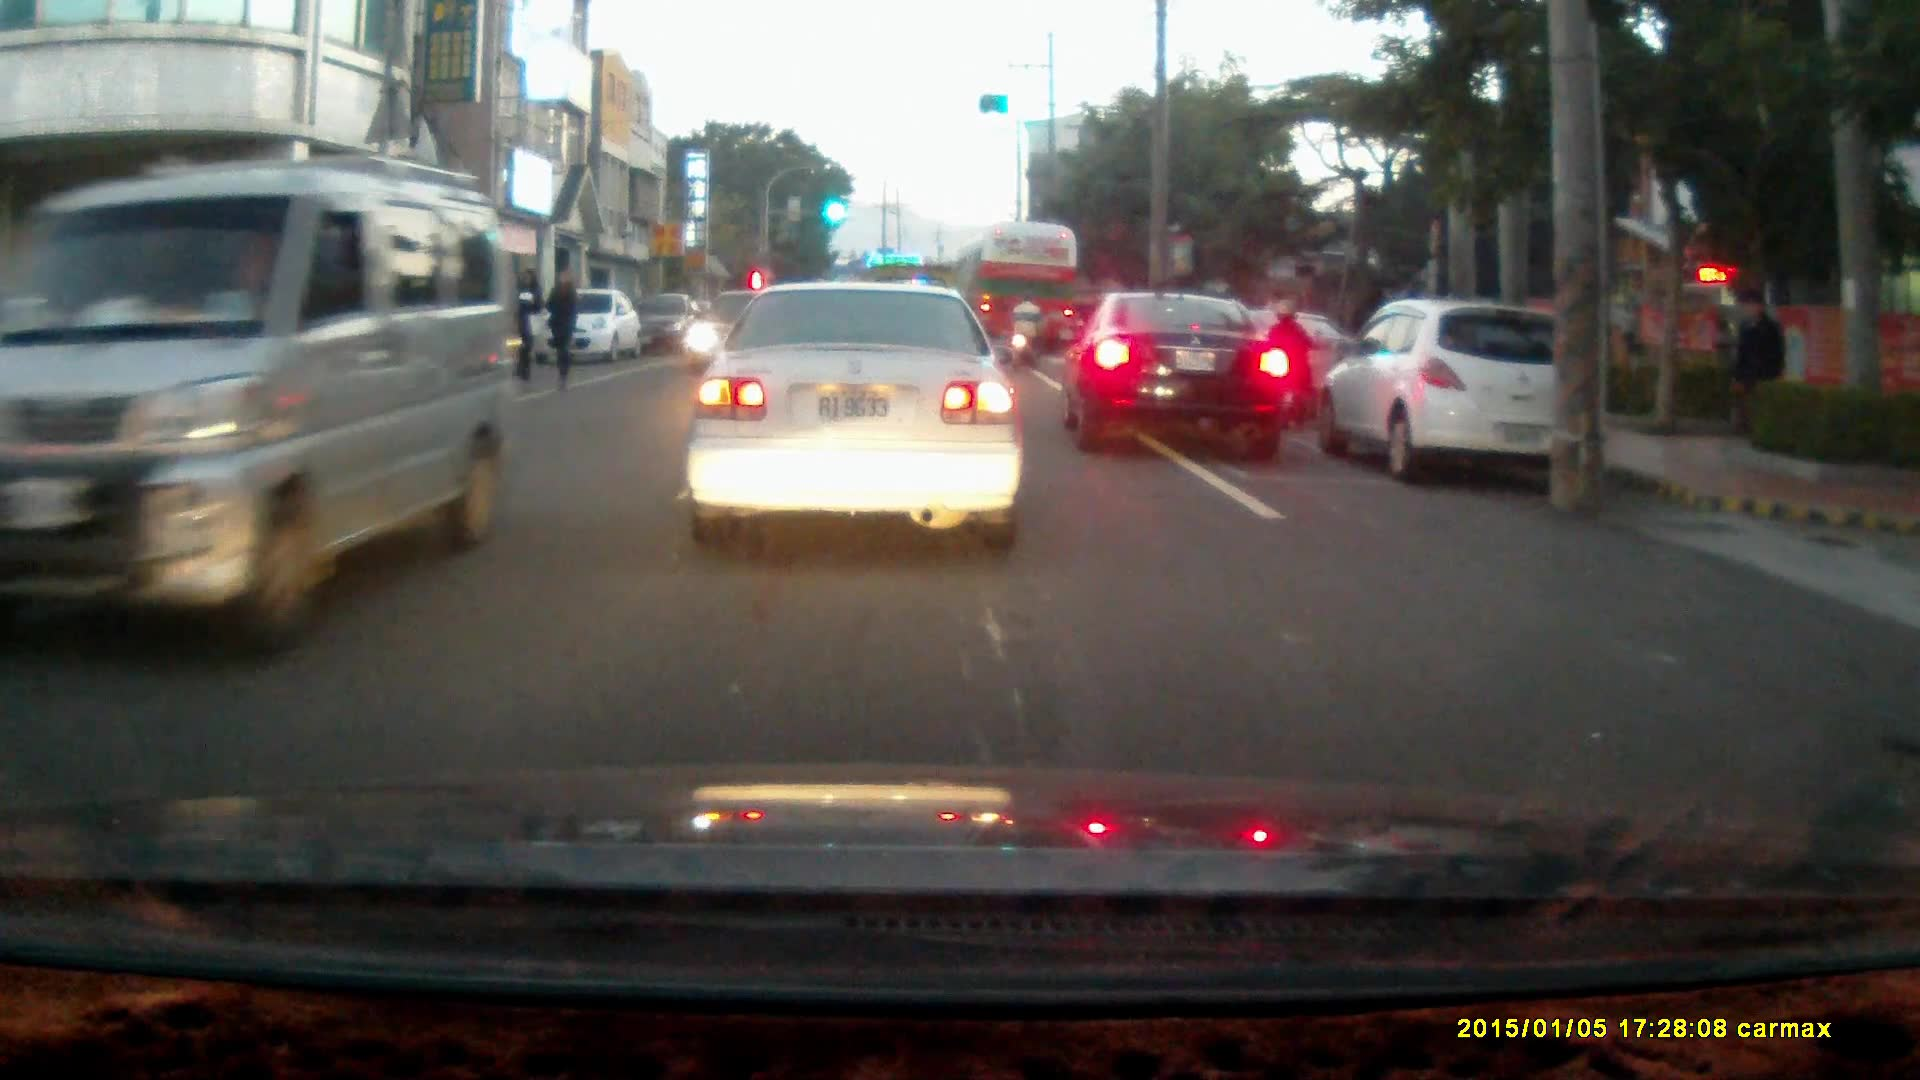pedestrian: (1729, 288, 1787, 451), (542, 263, 579, 393)
rider: (1267, 299, 1322, 435), (1007, 292, 1044, 370)
vehicle: (1, 155, 510, 670), (679, 280, 1028, 556), (1310, 296, 1597, 488), (1062, 293, 1294, 463), (965, 221, 1084, 362), (683, 287, 806, 383), (534, 287, 640, 363)
